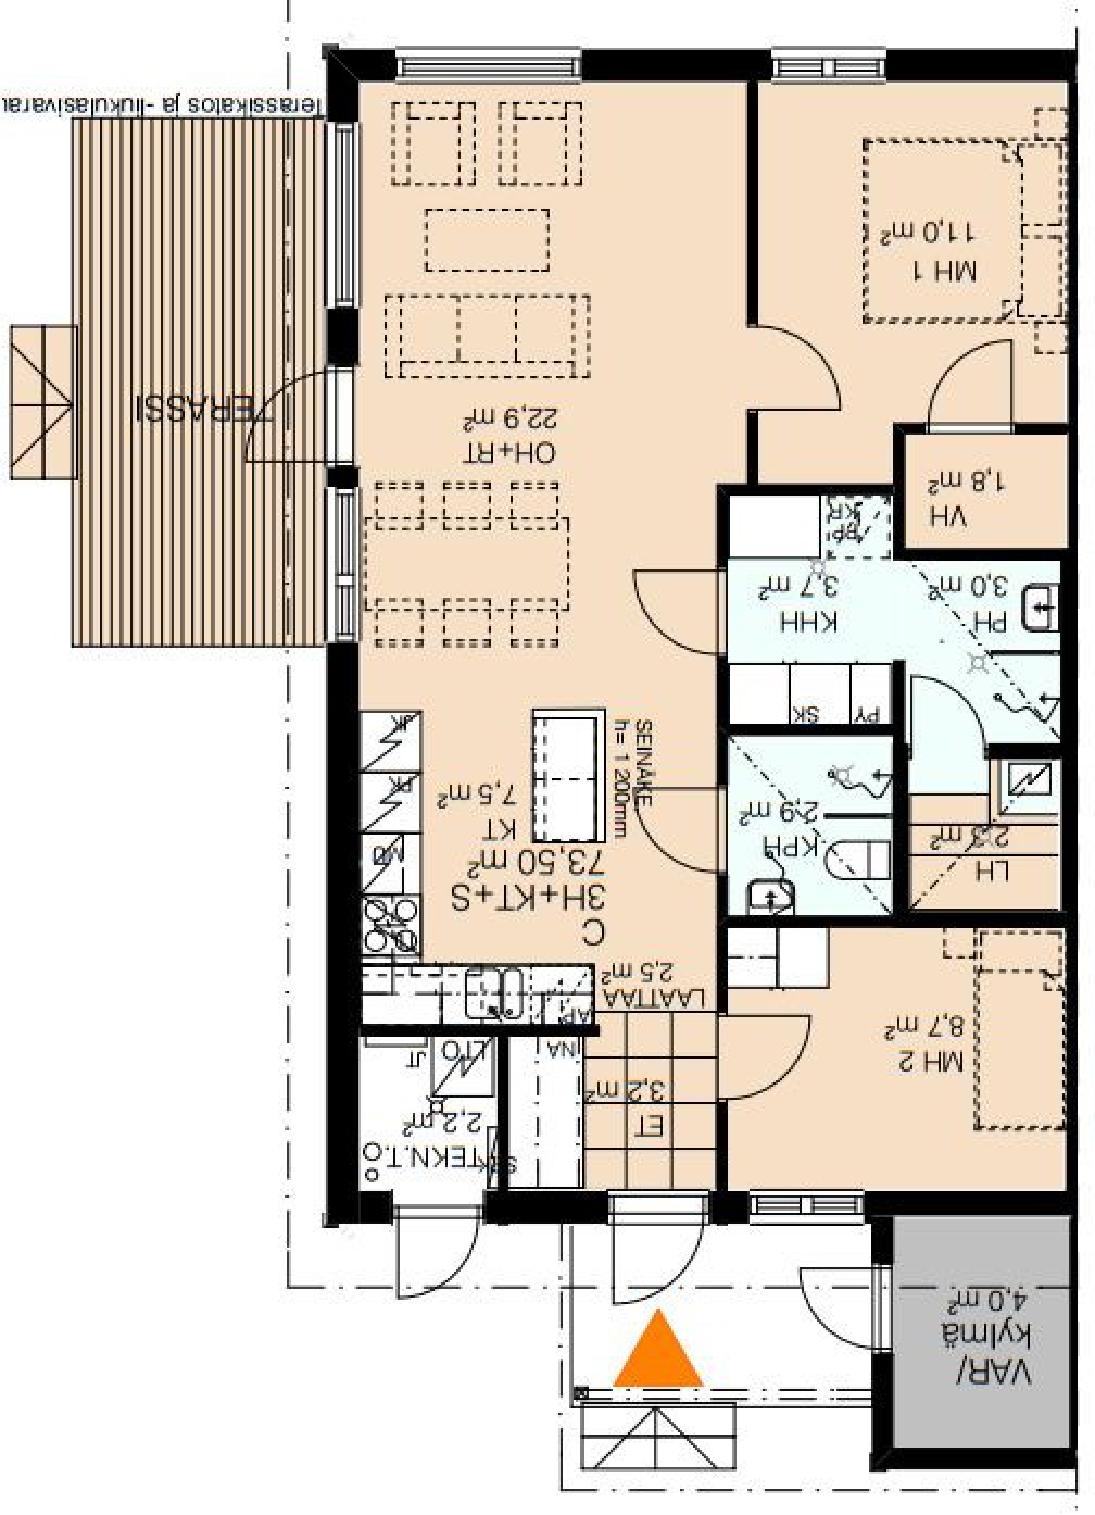door: (609, 1190, 706, 1316), (231, 379, 358, 462), (634, 565, 734, 663), (747, 323, 848, 421), (715, 1013, 820, 1107), (920, 335, 1011, 438), (390, 1201, 478, 1304), (630, 785, 728, 874), (789, 1268, 889, 1346), (909, 669, 986, 757)
window: (395, 46, 581, 91), (323, 121, 362, 312), (319, 488, 363, 646), (773, 44, 889, 85), (748, 1190, 872, 1227)
zone: (369, 76, 715, 1026), (719, 499, 1048, 905), (75, 119, 328, 646), (756, 79, 1062, 485), (733, 932, 1059, 1193), (567, 1221, 864, 1410), (892, 1223, 1070, 1444), (503, 1035, 712, 1190), (359, 1037, 498, 1196), (904, 443, 1064, 540)
